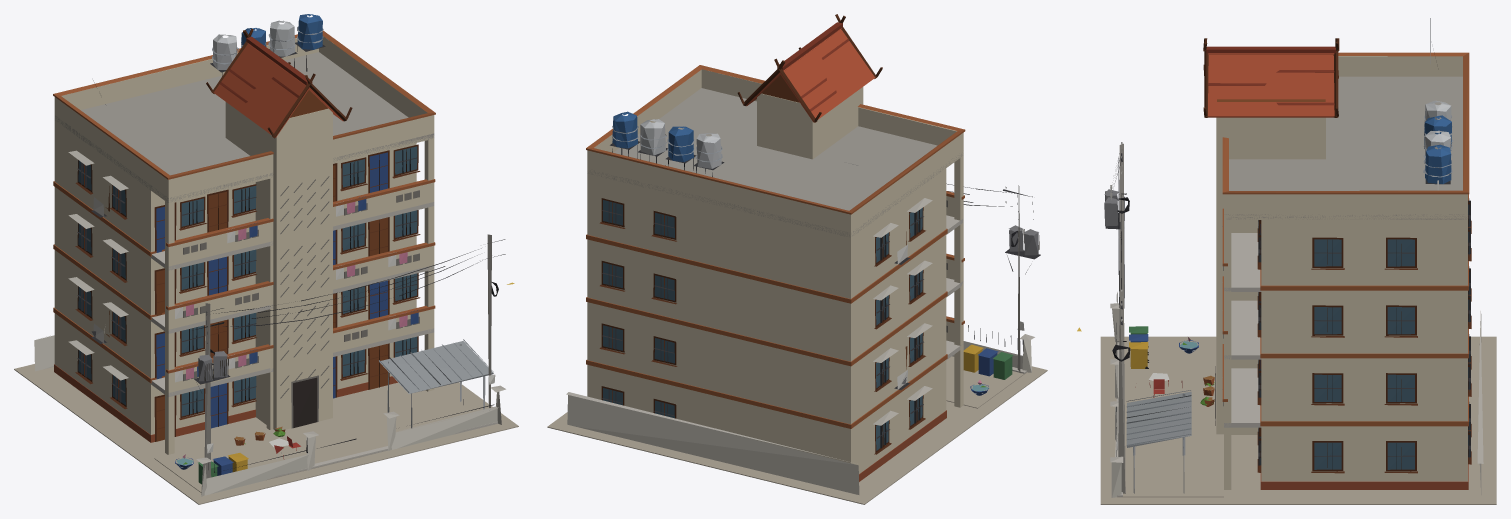
File: home_4.glb
3 renders of one model, left to right at view 1: azimuth 30°, elevation 25°; view 2: azimuth 150°, elevation 25°; view 3: azimuth 270°, elevation 25°, orthographic. The views are drawn at different scales.
Parts seen in each view (by area): view 1: body, windows; view 2: body, windows; view 3: body, windows.
Boxes of the visible parts, x1=… form: body: x1=14, y1=14, x2=518, y2=504; windows: x1=78, y1=146, x2=514, y2=427; body: x1=547, y1=14, x2=1047, y2=504; windows: x1=603, y1=200, x2=922, y2=450; body: x1=1100, y1=18, x2=1496, y2=504; windows: x1=1077, y1=198, x2=1469, y2=469.
Size of the model in its own units: 15.9 by 17.08 by 16.88.
